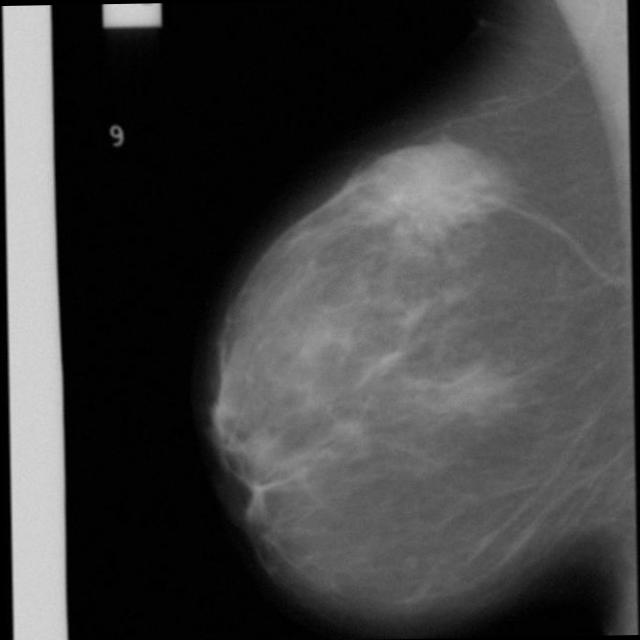ARCH: (380, 186, 458, 265)
